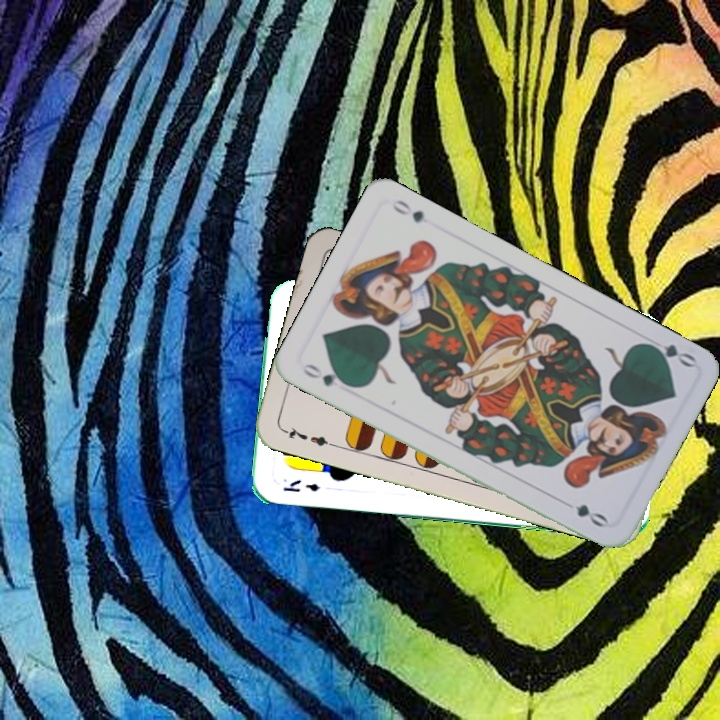E7: (279, 422, 337, 449)
EK: (279, 475, 322, 495)
GO: (640, 339, 698, 370), (298, 359, 354, 390)
